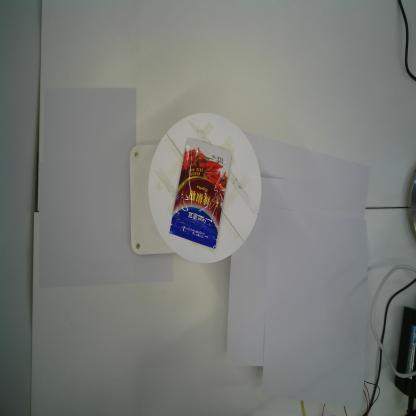Seasoner: (168, 137, 233, 249)
